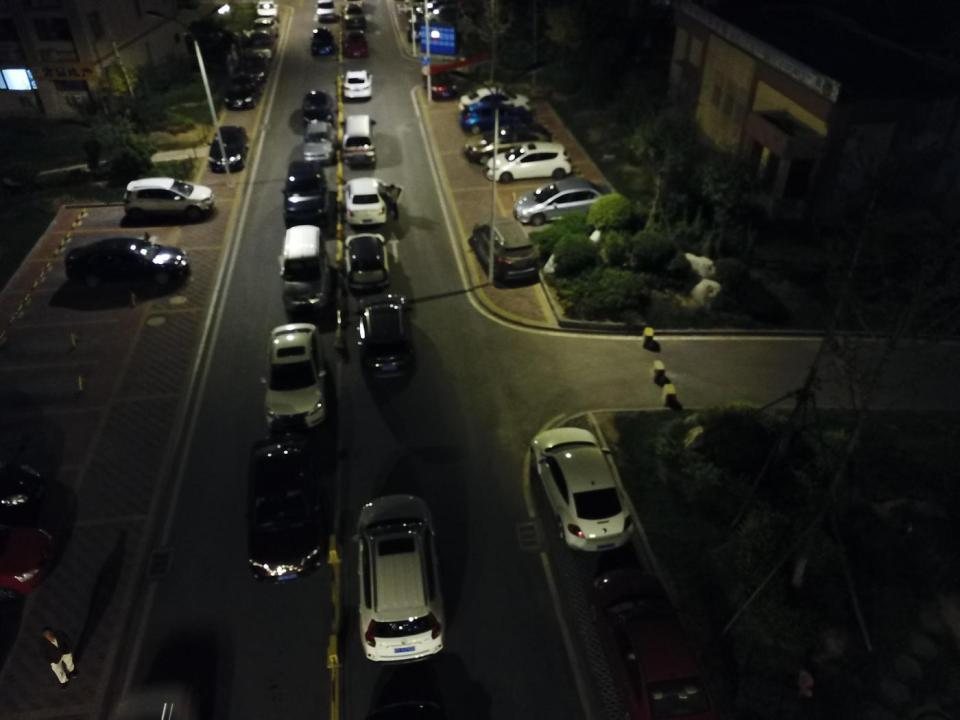car: (585, 563, 723, 720), (348, 487, 448, 665), (528, 424, 634, 554), (245, 428, 325, 586), (57, 234, 192, 295), (260, 318, 328, 430), (355, 290, 420, 383), (472, 217, 544, 283), (508, 181, 610, 224), (460, 124, 553, 167), (121, 173, 213, 216), (284, 154, 337, 224), (341, 228, 398, 292), (486, 142, 573, 181), (454, 100, 538, 137), (205, 121, 250, 173), (458, 85, 534, 115), (301, 118, 338, 170), (420, 63, 466, 100), (222, 70, 261, 112), (423, 3, 477, 31), (300, 90, 334, 125), (246, 25, 279, 60), (342, 64, 372, 101), (240, 50, 271, 81), (308, 24, 336, 56), (344, 30, 370, 60), (250, 14, 283, 36), (343, 2, 367, 27), (252, 0, 280, 20), (314, 0, 337, 21)
van: (276, 222, 332, 315), (340, 178, 408, 228), (338, 114, 380, 168)
